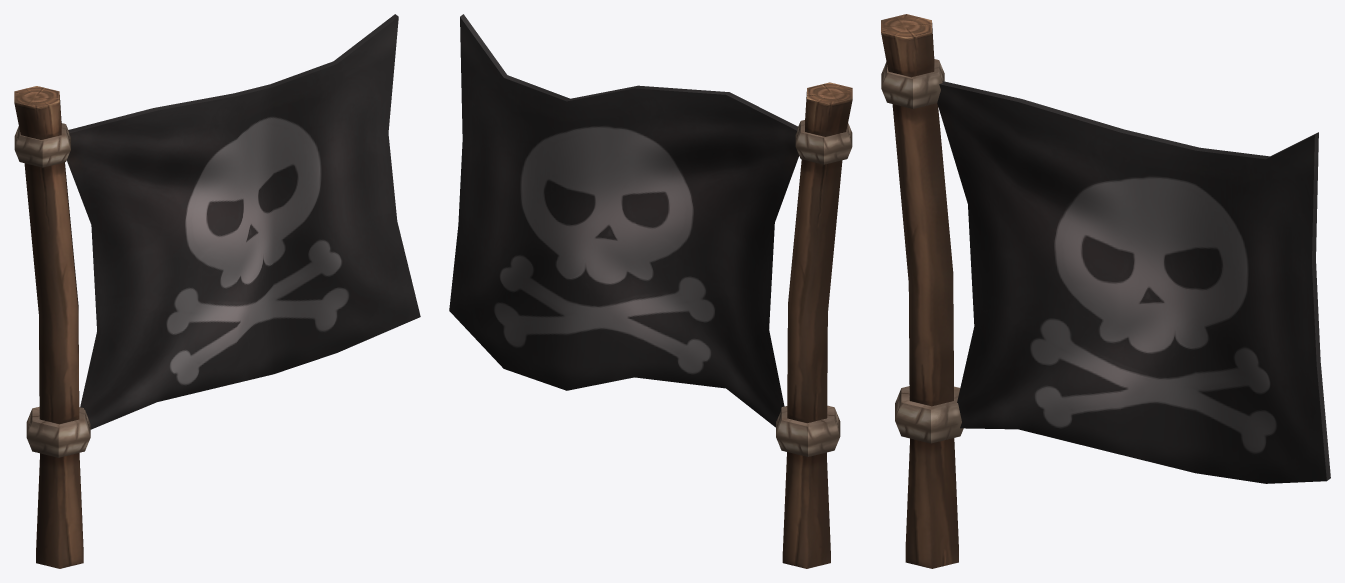
Rendered from 59_flag.FBX.
The picture shows the model from 3 angles, left to right: view 1: azimuth 30°, elevation 25°; view 2: azimuth 150°, elevation 25°; view 3: azimuth 330°, elevation 25°; orthographic projection. The views are drawn at different scales.
Visible parts, largest first — view 1: Object023; view 2: Object023; view 3: Object023.
Boxes of the visible parts, left/top/right/bottom form: Object023: left=14, top=14, right=420, bottom=568; Object023: left=449, top=14, right=852, bottom=568; Object023: left=881, top=14, right=1330, bottom=568.
Size of the model in its own units: 42.23 by 46.81 by 5.82.
